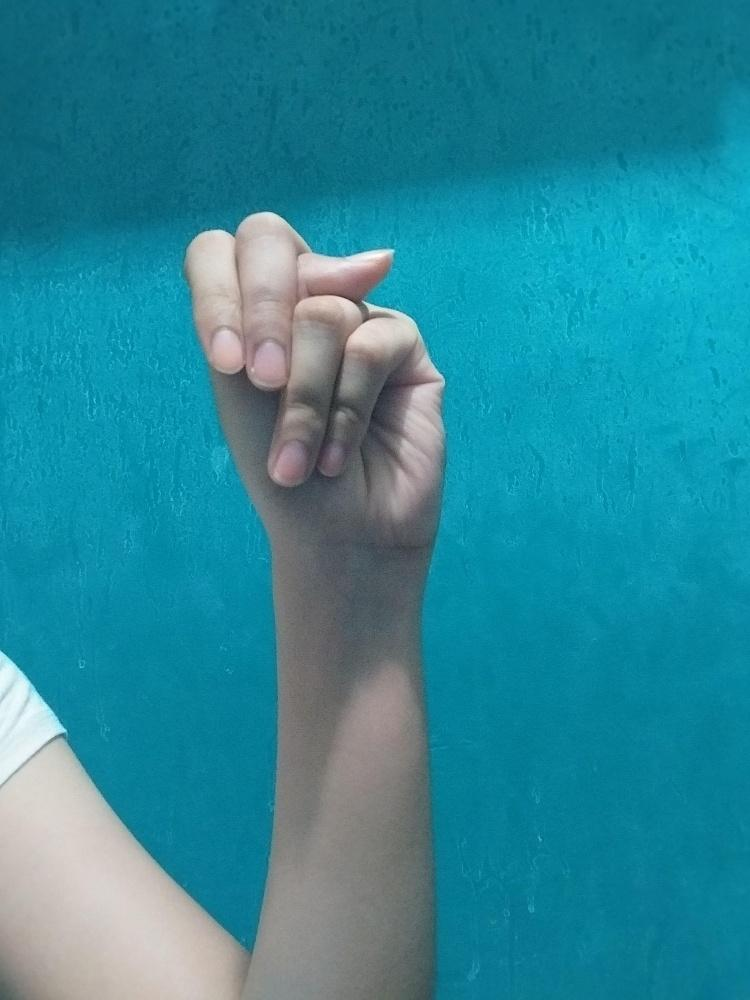n: (180, 209, 448, 550)
